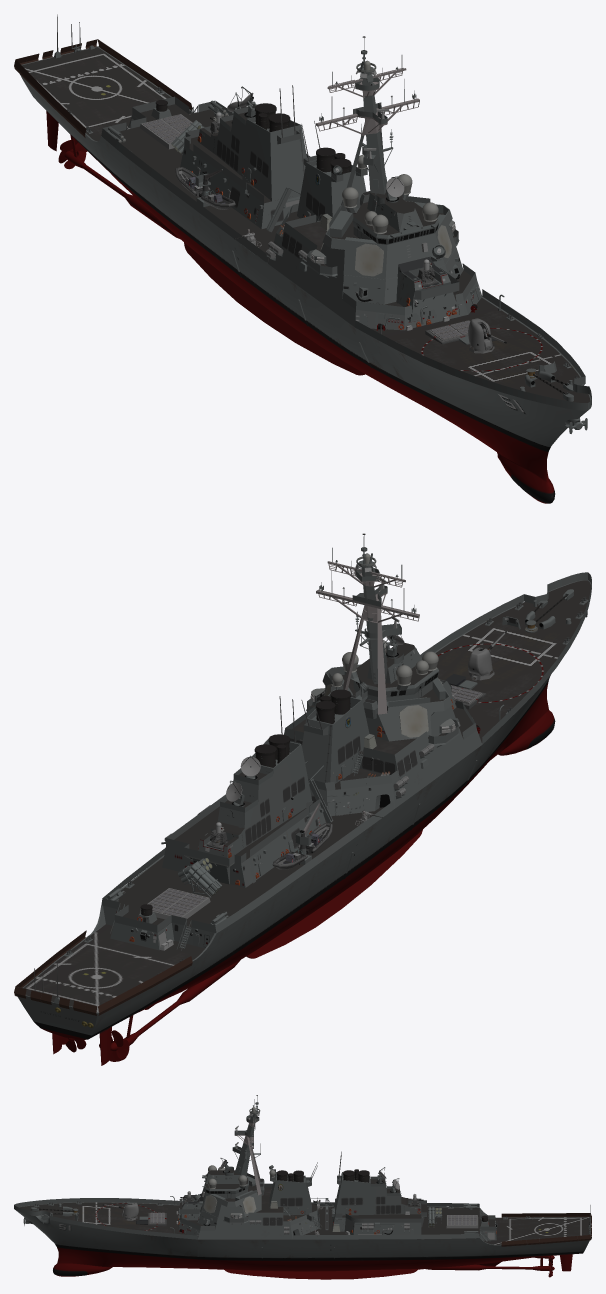
The model's file is DDG51_GQ.fbx.
3 views of the same model, one above another, from view 1: azimuth 30°, elevation 25°; view 2: azimuth 150°, elevation 25°; view 3: azimuth 270°, elevation 25° (orthographic). The views are drawn at different scales.
Parts seen in each view (by area): view 1: GQ_Hull, GQ_RHIB, GQ_Mk45_Train; view 2: GQ_Hull, GQ_RHIB; view 3: GQ_Hull.
Boxes of the visible parts, left/top/right/bottom form: GQ_Hull: left=14, top=14, right=591, bottom=503; GQ_RHIB: left=175, top=167, right=235, bottom=209; GQ_Mk45_Train: left=468, top=318, right=492, bottom=350; GQ_Hull: left=14, top=533, right=591, bottom=1065; GQ_RHIB: left=272, top=822, right=332, bottom=869; GQ_Hull: left=14, top=1095, right=591, bottom=1279.
Bounding box in the file's own units: 24.73 × 53.45 × 154.
